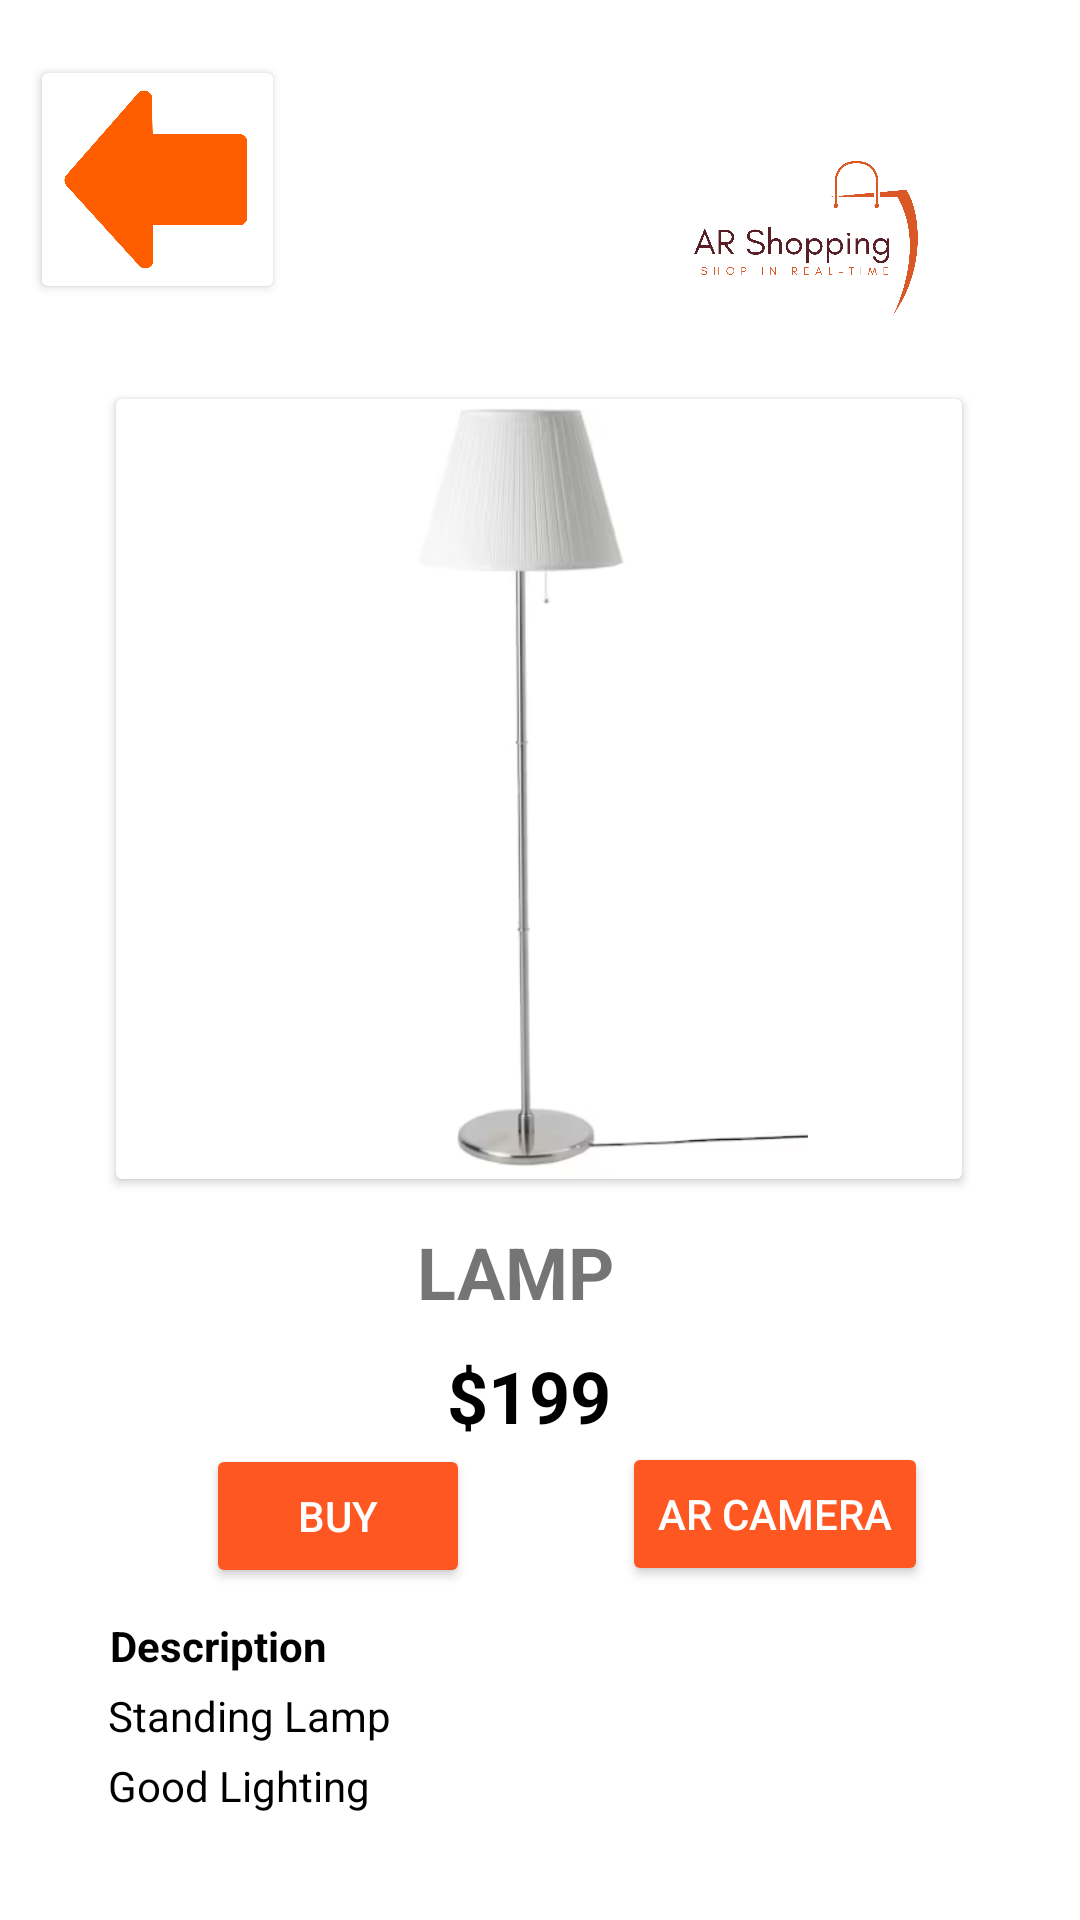

Screen size 1080*1920. Icon name, then its center in pixels as (x,y):
arrowl: (144,188)
